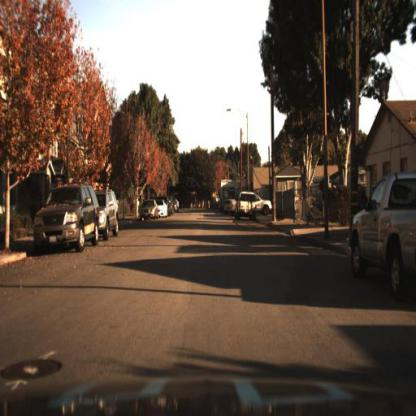car: (348, 171, 416, 293), (32, 178, 102, 262), (94, 183, 121, 242), (98, 186, 124, 247), (237, 190, 261, 225), (139, 195, 161, 222), (256, 193, 273, 216), (158, 196, 170, 224), (222, 194, 233, 221), (156, 197, 168, 220)
